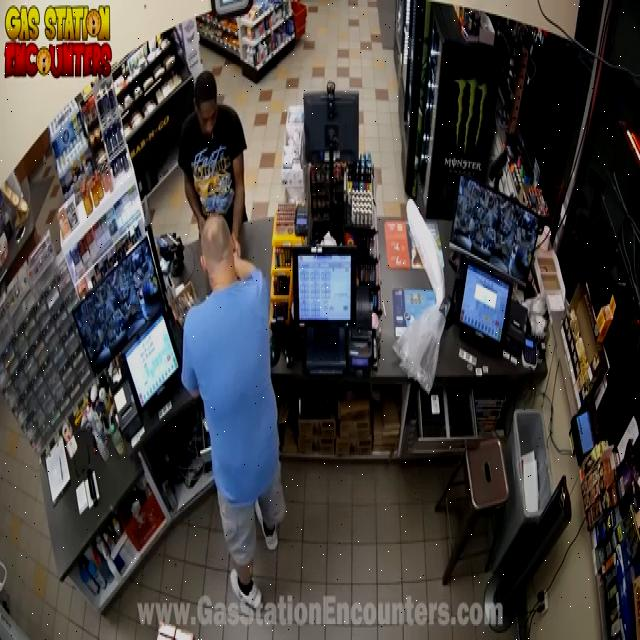person: (182, 217, 285, 608), (178, 71, 246, 254)
